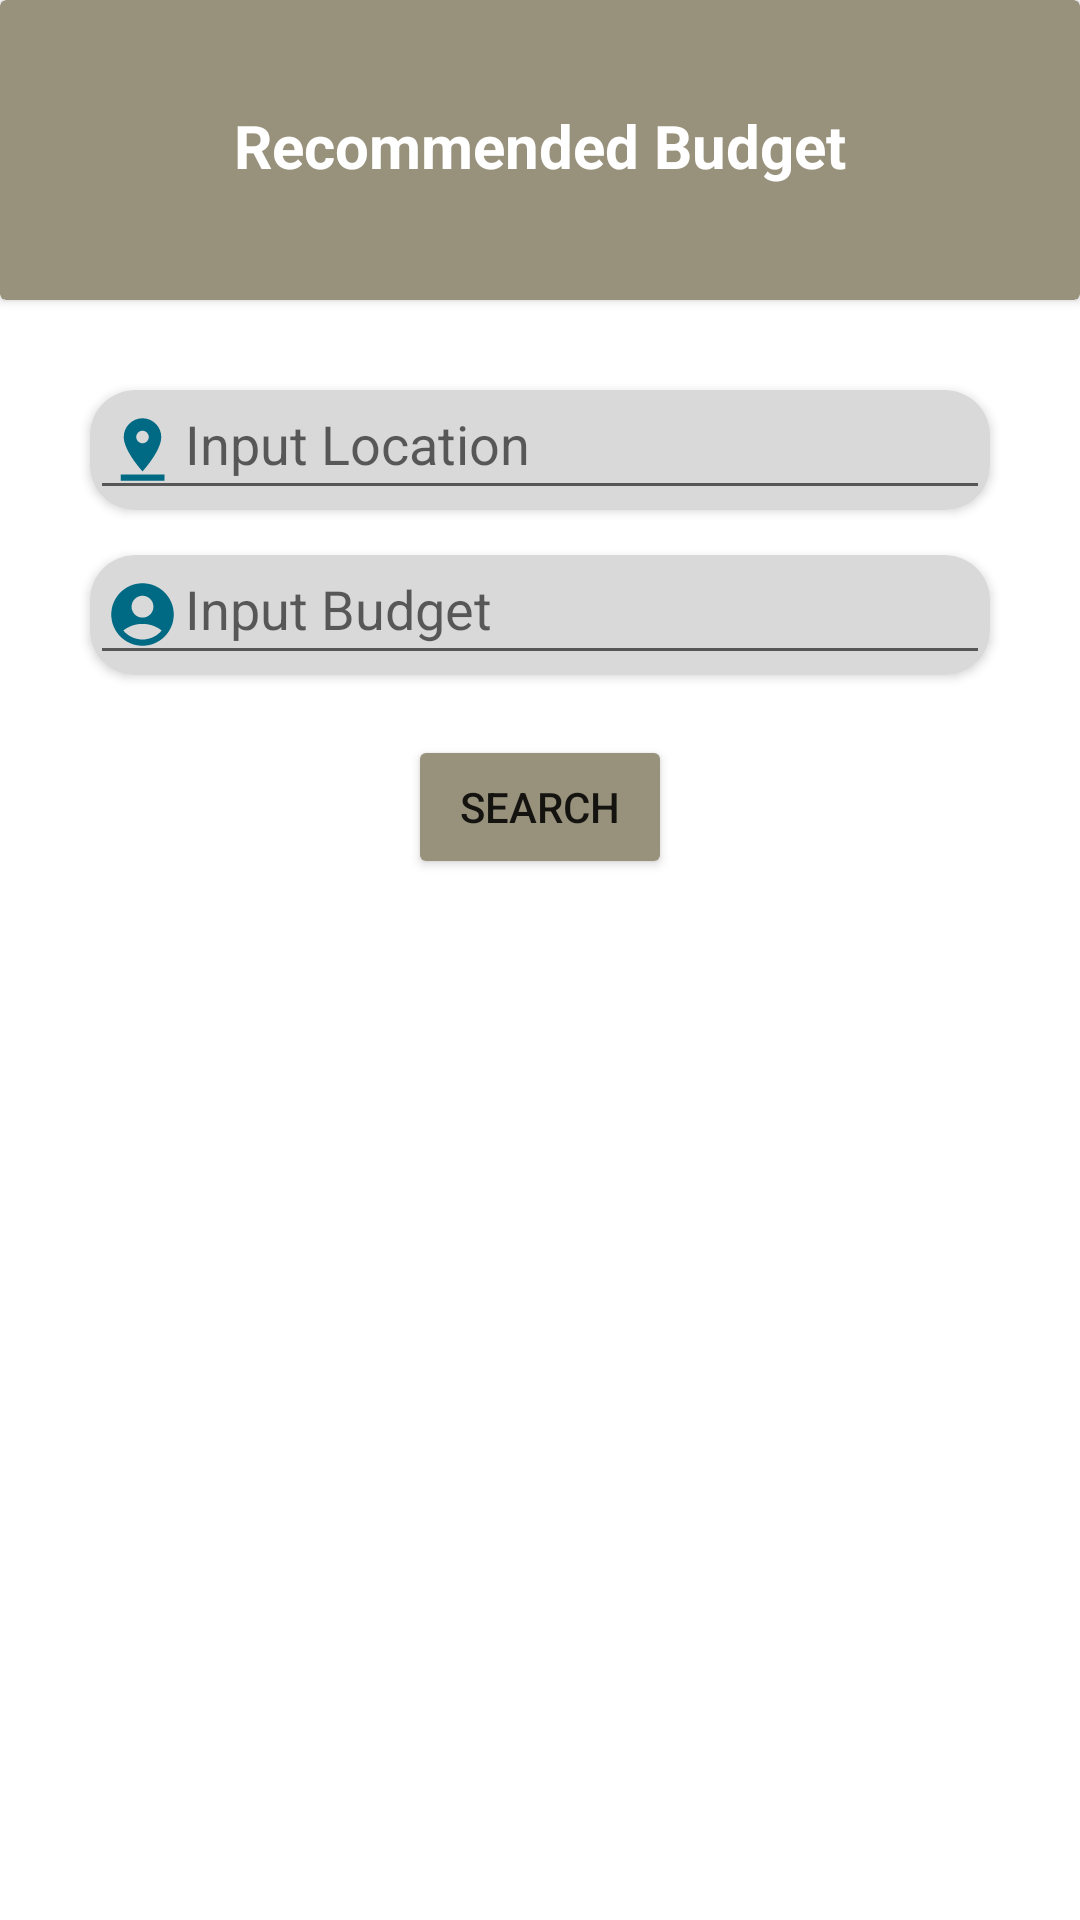

Named icons in this screenshot (1080px x 1920px) and their bounding boxes, (x1, y1, x2, y2):
account circle: (111, 583, 174, 646)
pin drop: (120, 418, 165, 481)
